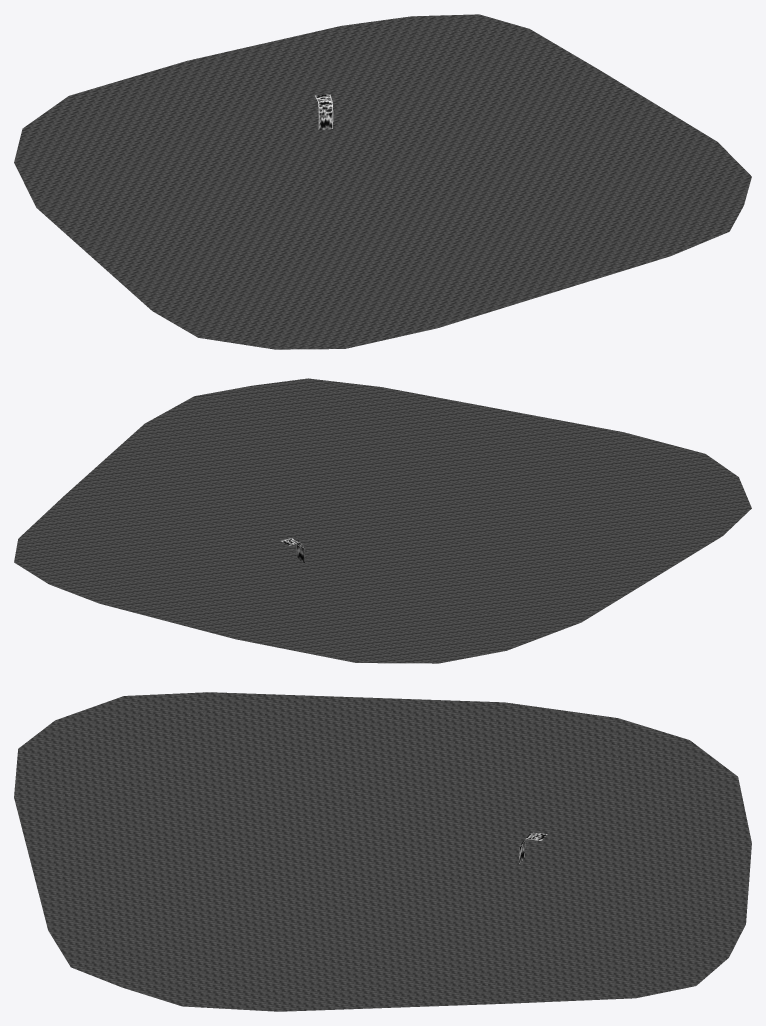
Rendered from PeachCastleIntroPlanetWater.fbx.
3 views of the same model, one above another, from view 1: azimuth 30°, elevation 25°; view 2: azimuth 150°, elevation 25°; view 3: azimuth 270°, elevation 25° (orthographic). The views are drawn at different scales.
Visible parts, largest first — view 1: Water; view 2: Water; view 3: Water.
Part boxes in pixels (<box>): Water: <box>14,14,751,349</box>; Water: <box>14,378,751,663</box>; Water: <box>14,692,751,1011</box>.
Size of the model in its own units: 5460781 by 244581 by 5329502.
